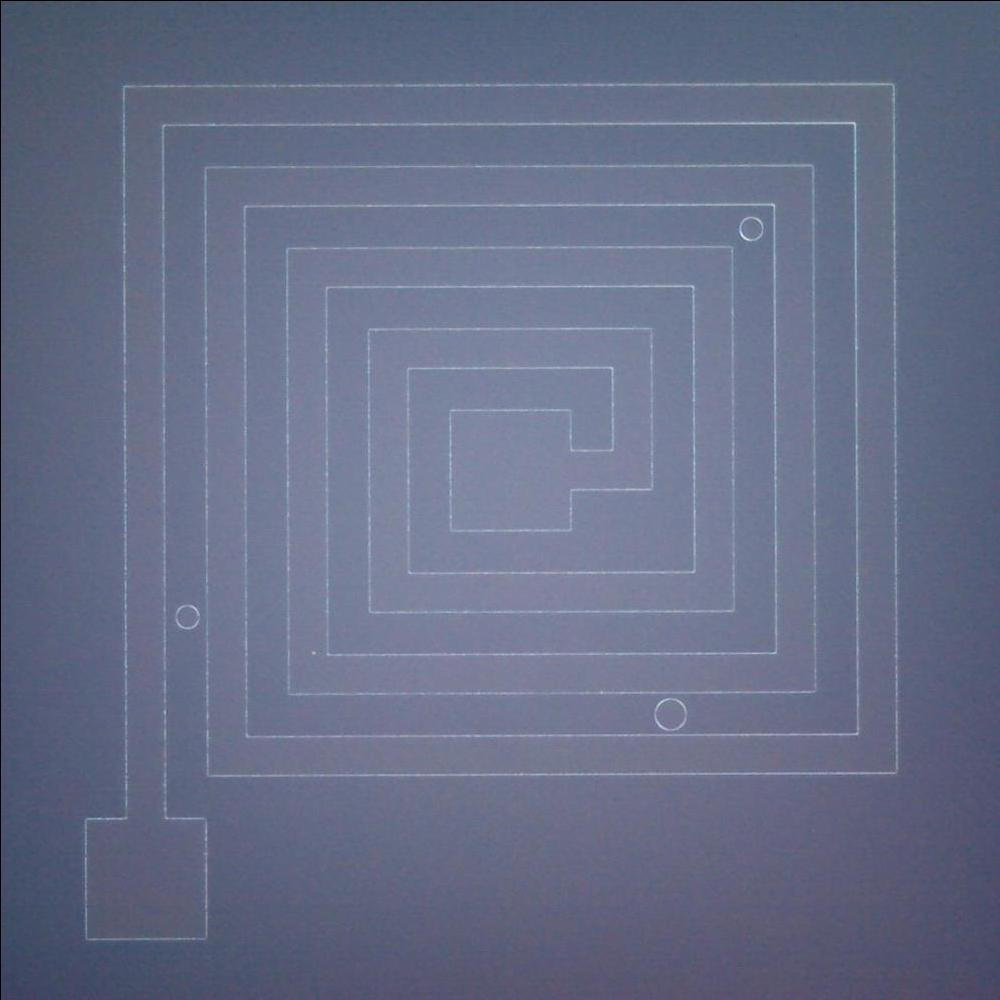circle: (649, 694, 690, 732), (732, 212, 767, 246), (172, 604, 204, 632)
